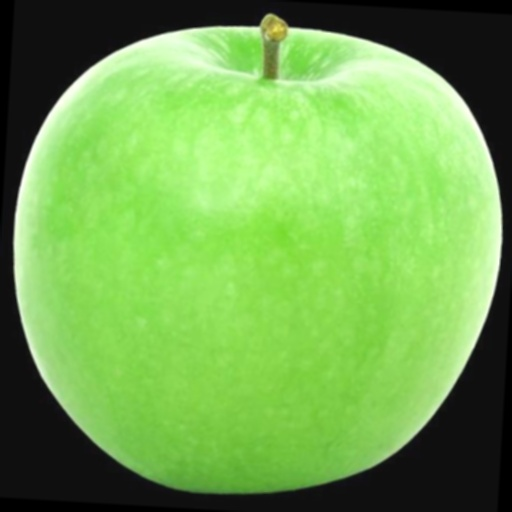fruit: (456, 140, 512, 496)
